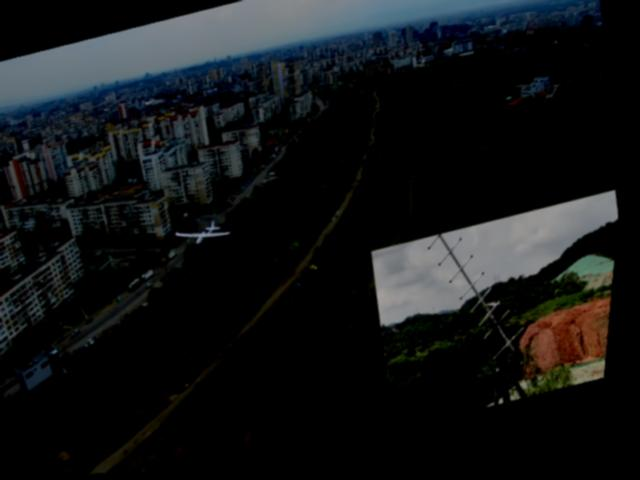plane: (177, 219, 237, 253)
